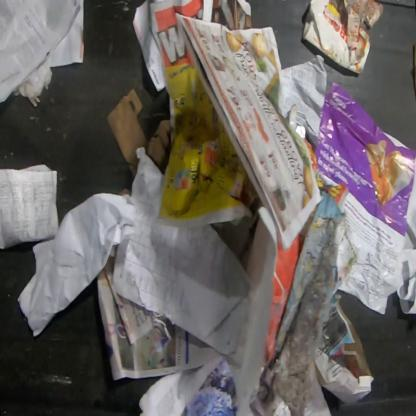cardboard: (107, 87, 170, 182), (300, 0, 370, 74)
